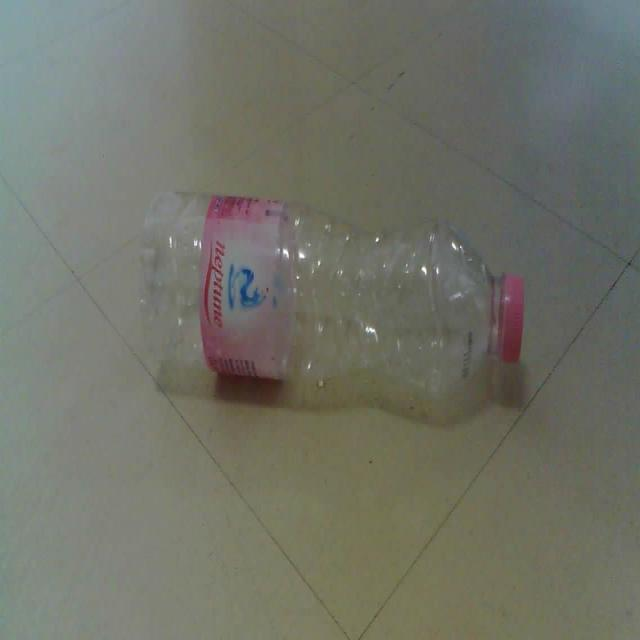empty: (140, 192, 523, 402)
